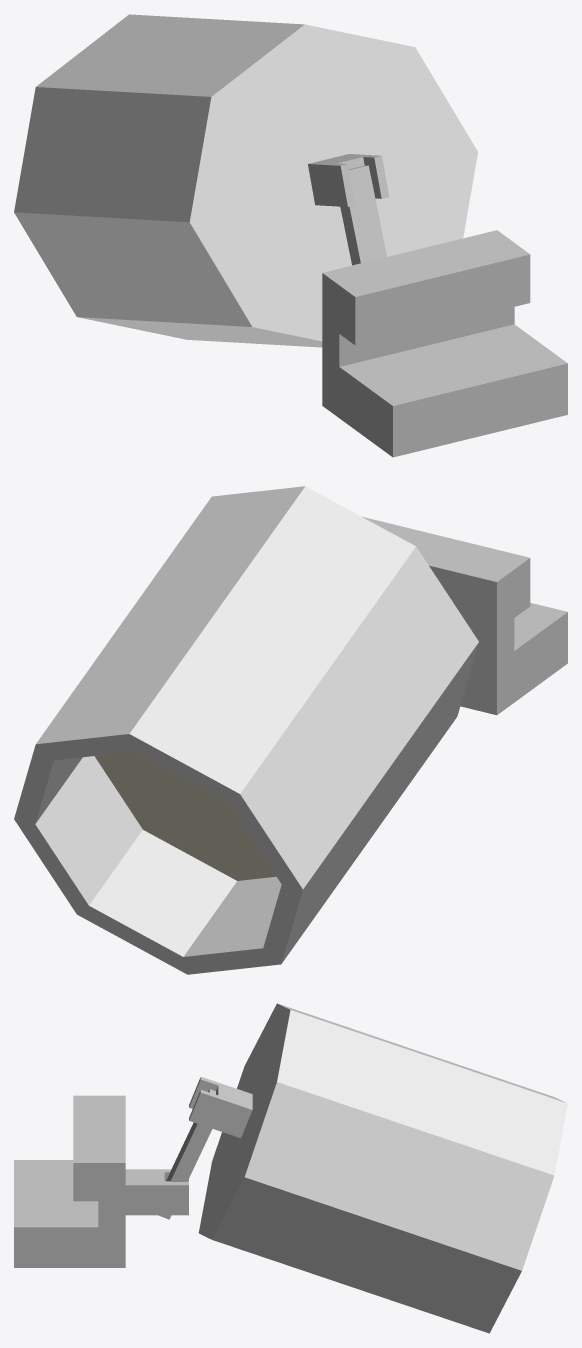
The model's file is Jail_GuardPost_Concrete_Lamp.fbx.
The picture shows the model from 3 angles, top to bottom: view 1: azimuth 30°, elevation 25°; view 2: azimuth 150°, elevation 25°; view 3: azimuth 270°, elevation 25°; orthographic projection. The views are drawn at different scales.
Visible parts, largest first — view 1: PostLamp, Post_Lamp_holder; view 2: PostLamp, Post_Lamp_holder; view 3: PostLamp, Post_Lamp_holder.
Part boxes in pixels (bbox=[...]): PostLamp: bbox=[14, 14, 477, 347]; Post_Lamp_holder: bbox=[322, 165, 567, 457]; PostLamp: bbox=[14, 486, 478, 974]; Post_Lamp_holder: bbox=[362, 517, 567, 715]; PostLamp: bbox=[189, 1003, 567, 1333]; Post_Lamp_holder: bbox=[14, 1089, 215, 1267].
Bounding box in the file's own units: 1.24 × 1.65 × 2.61.
Materials: 1 (1 with a texture image).
